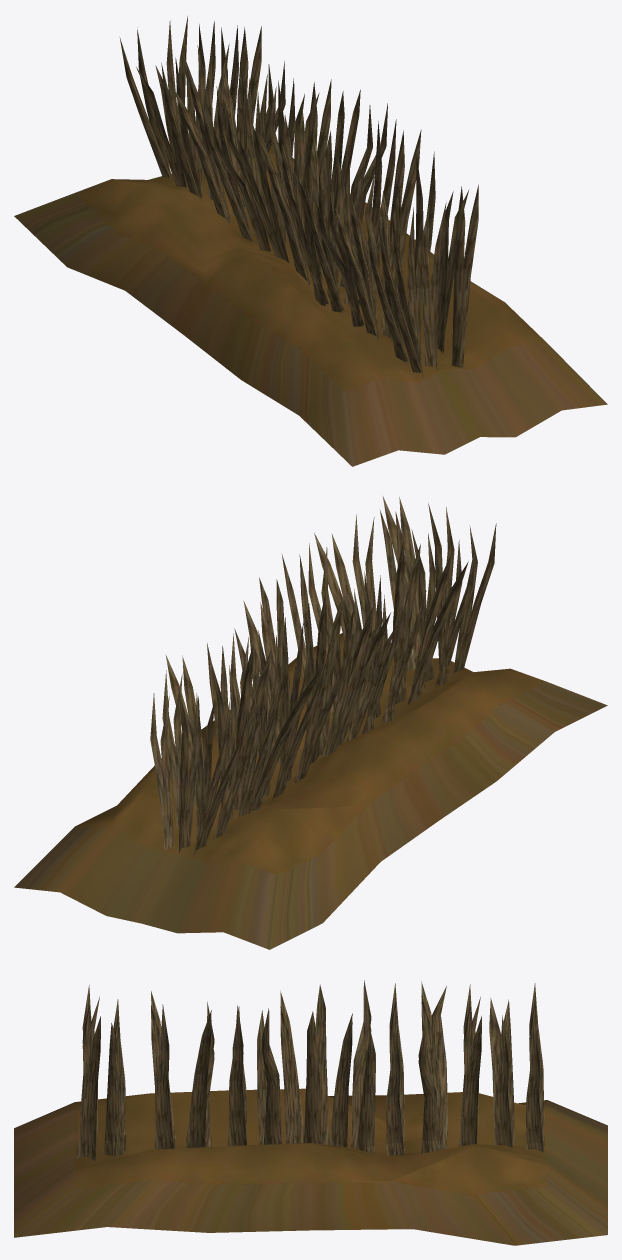
Rendered from cropfield.glb.
3 views of the same model, one above another, from view 1: azimuth 30°, elevation 25°; view 2: azimuth 150°, elevation 25°; view 3: azimuth 270°, elevation 25° (orthographic). The views are drawn at different scales.
Visible parts, largest first — view 1: SM_CropField; view 2: SM_CropField; view 3: SM_CropField.
Boxes of the visible parts, bbox=[...] form: SM_CropField: bbox=[14, 16, 607, 466]; SM_CropField: bbox=[14, 496, 607, 949]; SM_CropField: bbox=[14, 980, 607, 1245].
Bounding box in the file's own units: 1.1 × 0.9375 × 2.51.
1 material, 1 textured.
